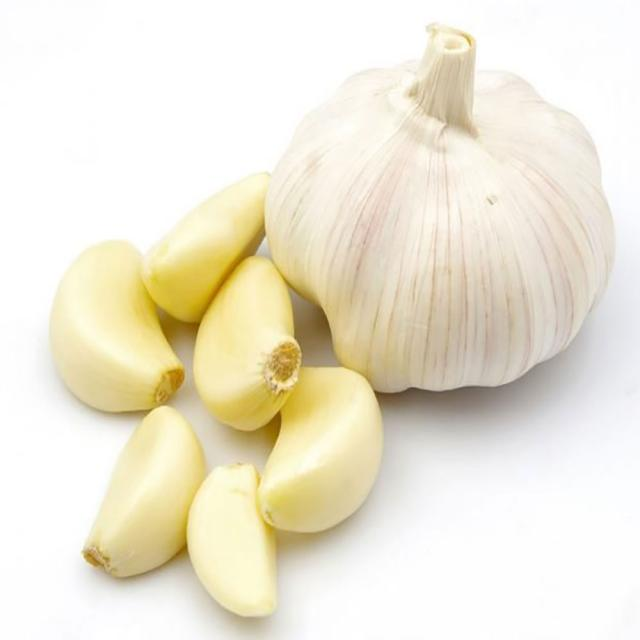garlic: (252, 27, 614, 405)
